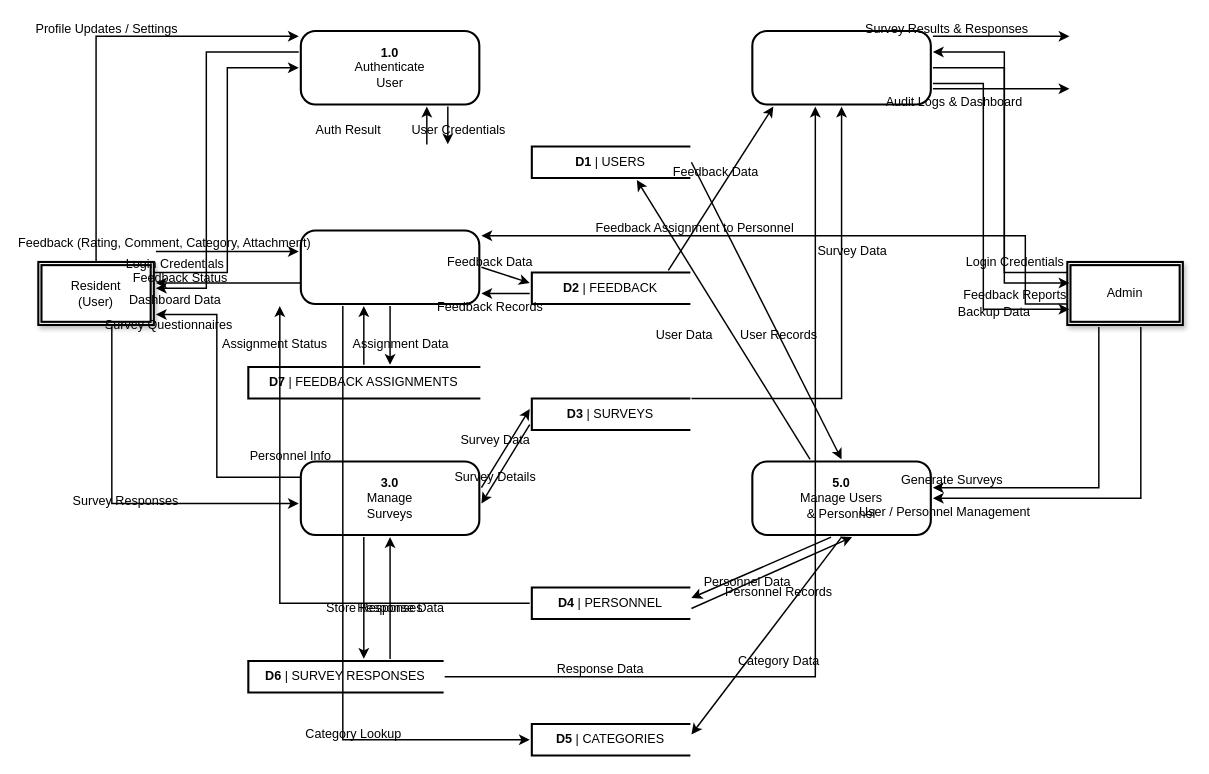
This 1209x774 diagram has some shape labels left out. Each missing label, with the centre of its shape:
"2.0 Manage Feedback" goes at point 389,266.
"4.0 Generate Reports & Analytics" goes at point 841,67.
